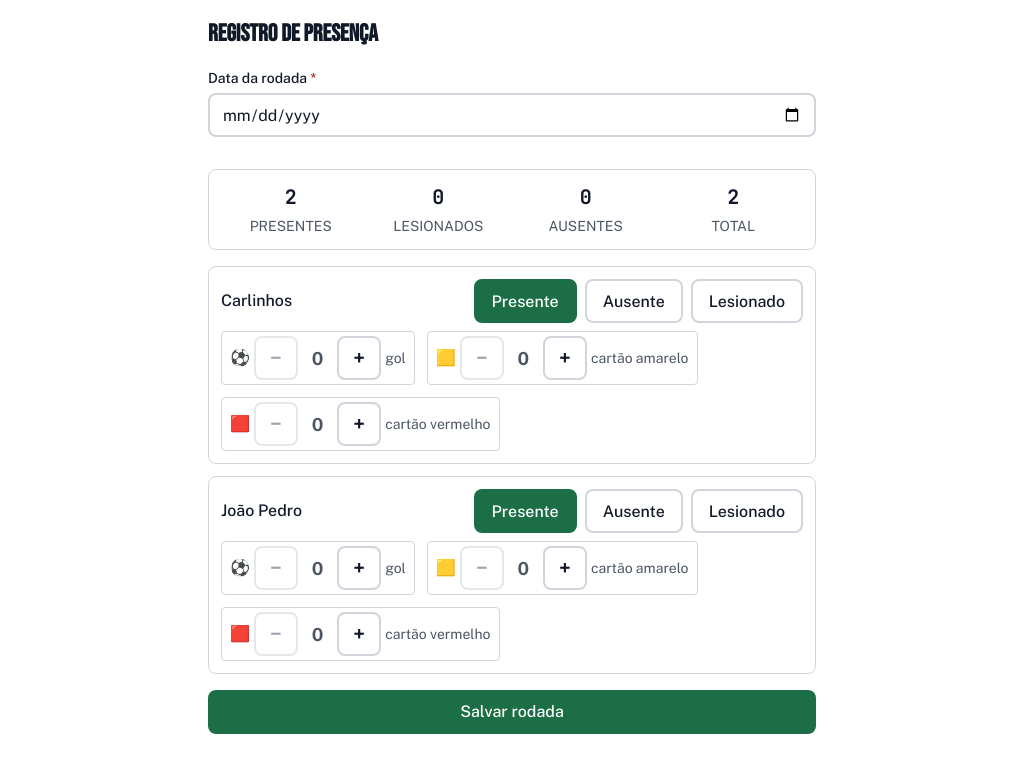
Test: LancamentoRodadaForm › confirmar dentro do modal dispara uma única transação atômica (um único POST) com loading explícito, bloqueando Cancelar durante o envio
Check: the heading "Registro de presença" is shown, box x1=208 y1=19 x2=378 y2=48
Step 1. Type "2026-09-05" into the date field labelled "Data da rodada *" → (512, 115), box x1=208 y1=93 x2=816 y2=137
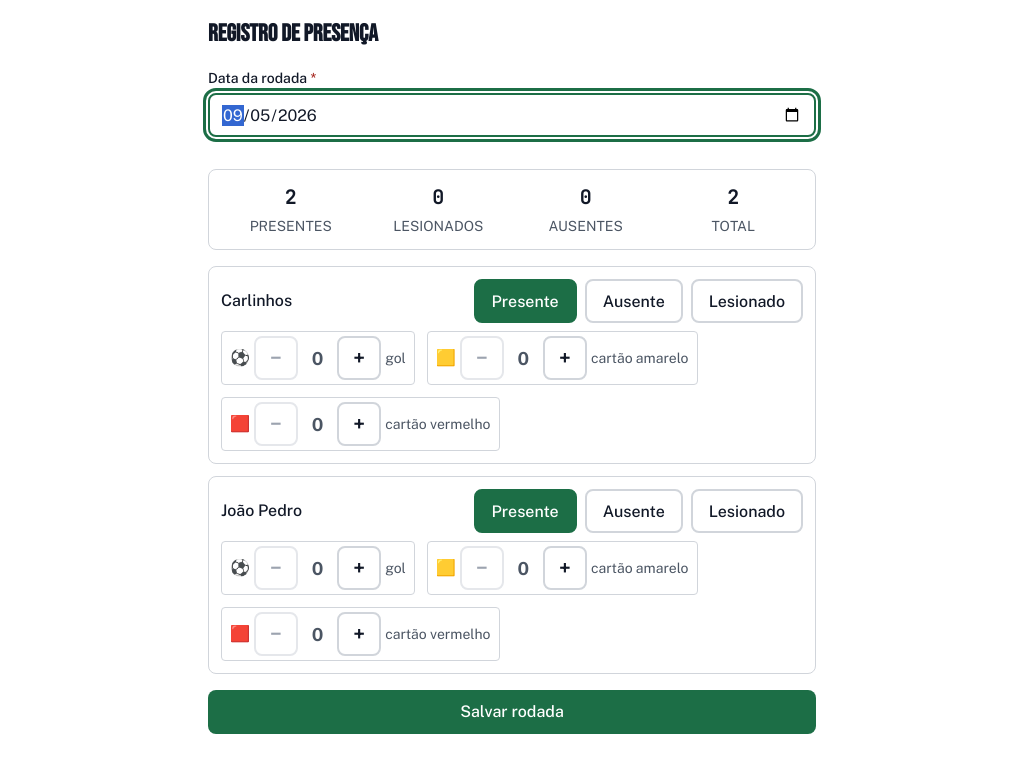
Step 2. Click the button "Salvar rodada" → (512, 712), box x1=208 y1=690 x2=816 y2=734
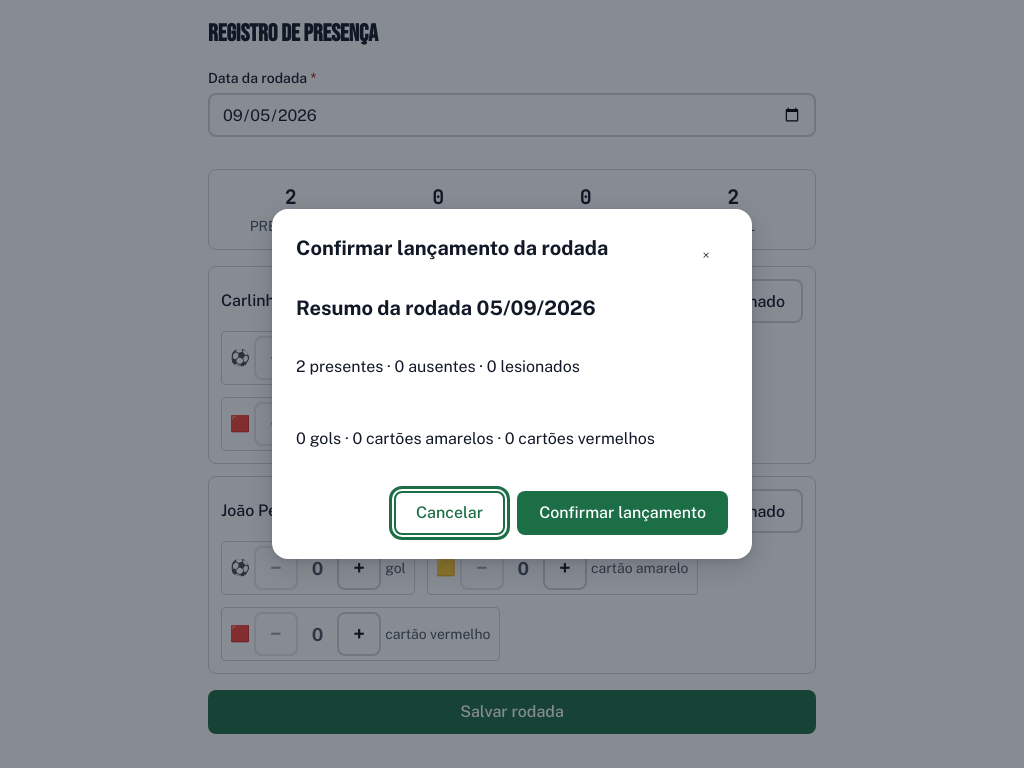
Step 3. Click the button "Confirmar lançamento" → (623, 513), box x1=517 y1=491 x2=728 y2=535
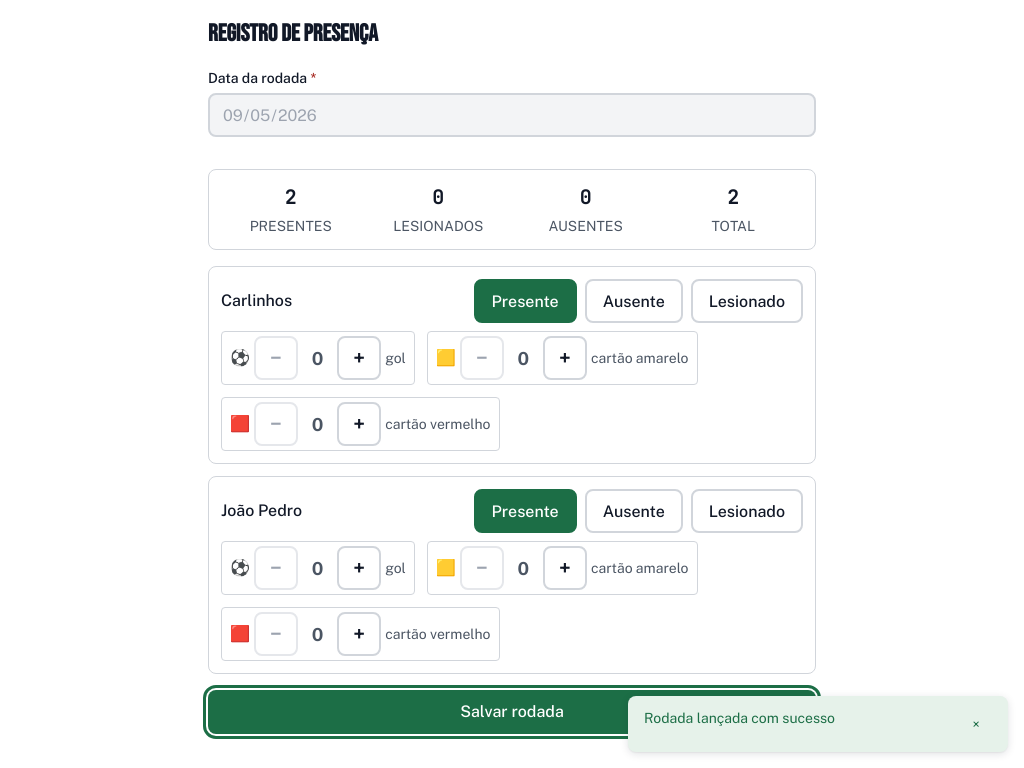
Check: the text "Rodada lançada com sucesso" is shown, box x1=644 y1=710 x2=835 y2=726
